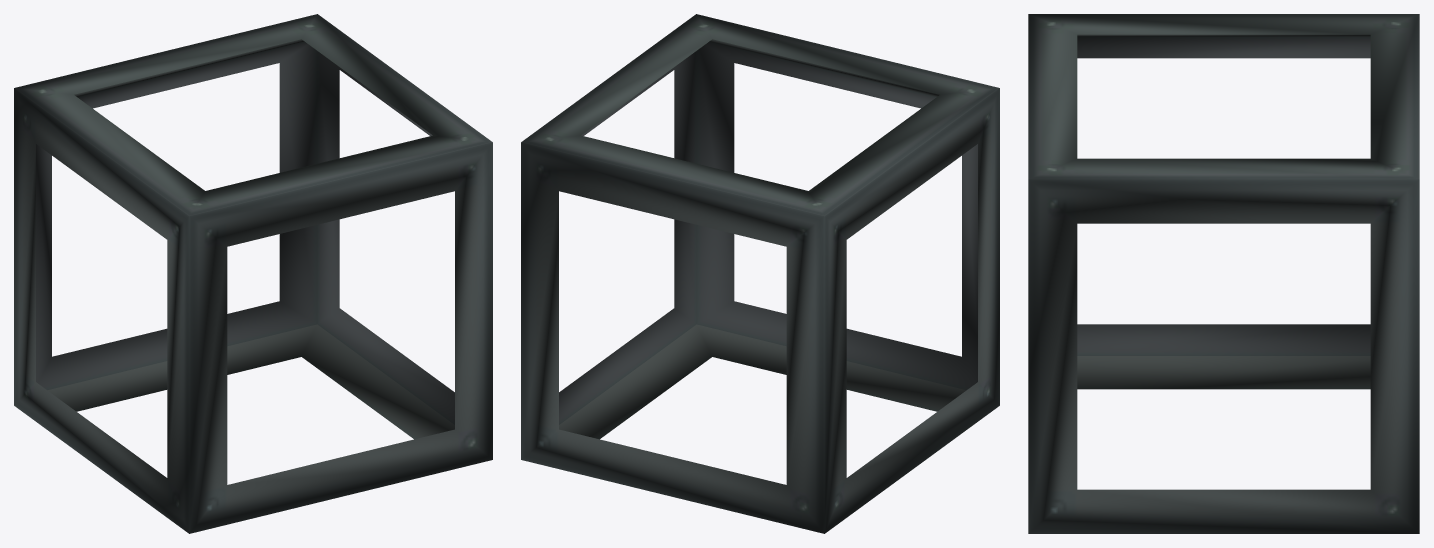
File: frame.obj
3 renders of one model, left to right at view 1: azimuth 30°, elevation 25°; view 2: azimuth 150°, elevation 25°; view 3: azimuth 270°, elevation 25°, orthographic. The views are drawn at different scales.
Visible parts, largest first — view 1: frame; view 2: frame; view 3: frame.
Boxes of the visible parts, x1,y1,x2,y2 form: frame: (14,14,492,533); frame: (521,14,999,533); frame: (1028,14,1419,533).
Bounding box in the file's own units: 1 × 1 × 1.
Materials: 1 (1 with a texture image).
